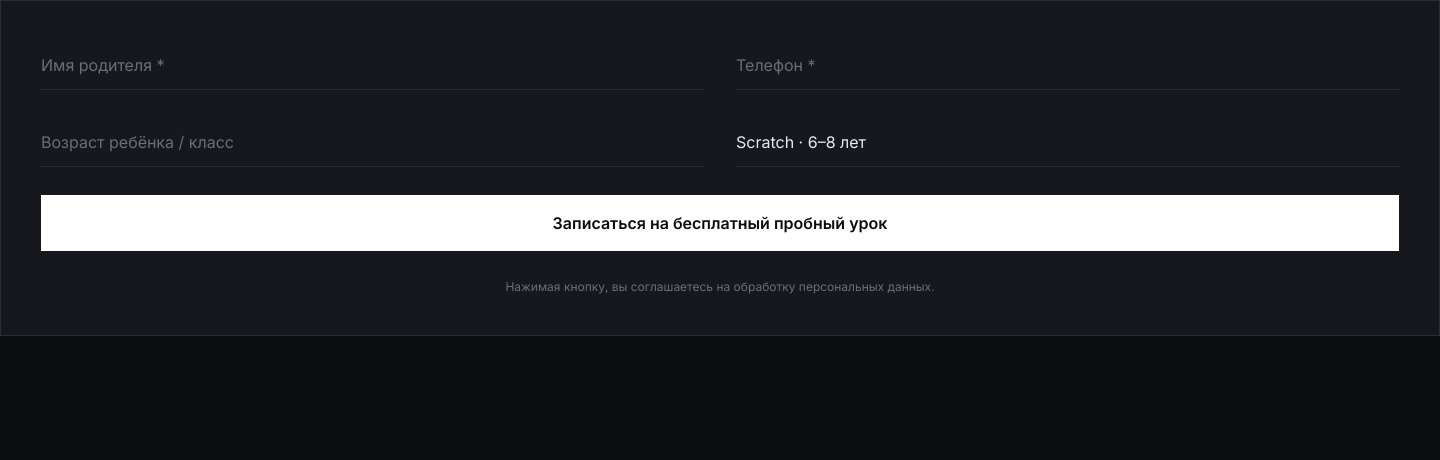
ApplicationForm › отправляет заявку и показывает сообщение об успехе
Step 1. Type "Иван Петров" into the field with placeholder "Имя родителя *" → (372, 66), box [41,41,704,90]
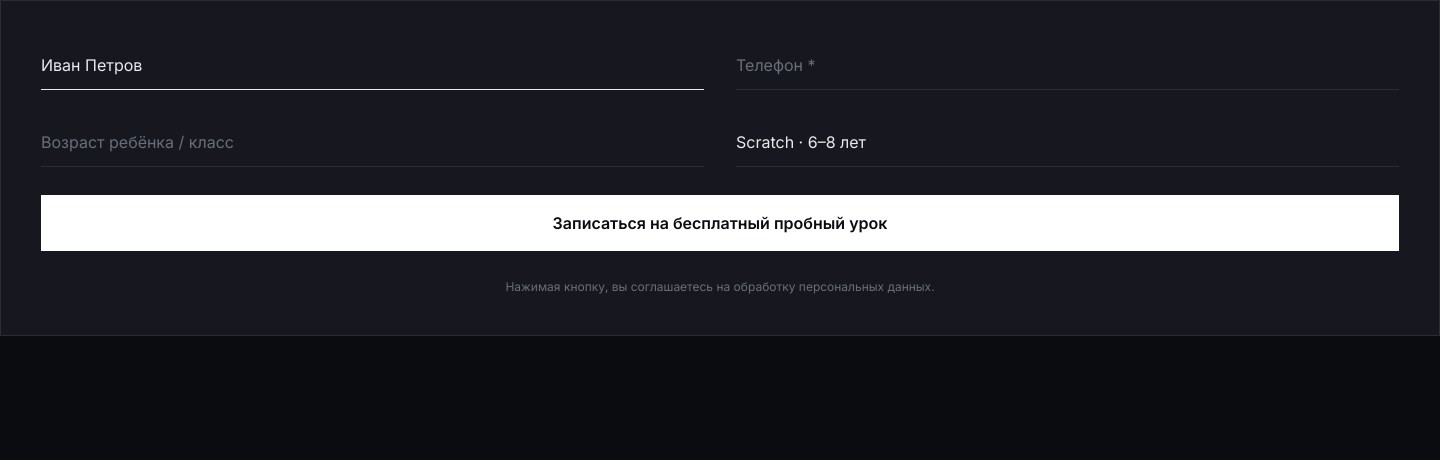
Step 2. Type "+375291234567" into the field with placeholder "Телефон *" → (1068, 66), box [736,41,1399,90]
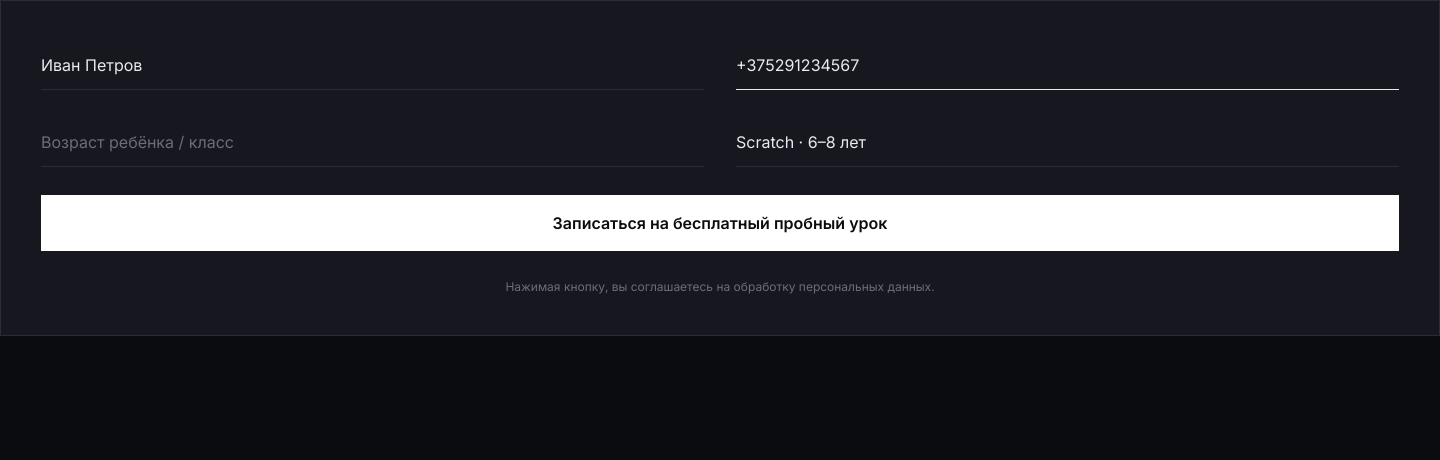
Step 3. Type "9 лет" into the field with placeholder "Возраст ребёнка / класс" → (372, 142), box [41,118,704,167]
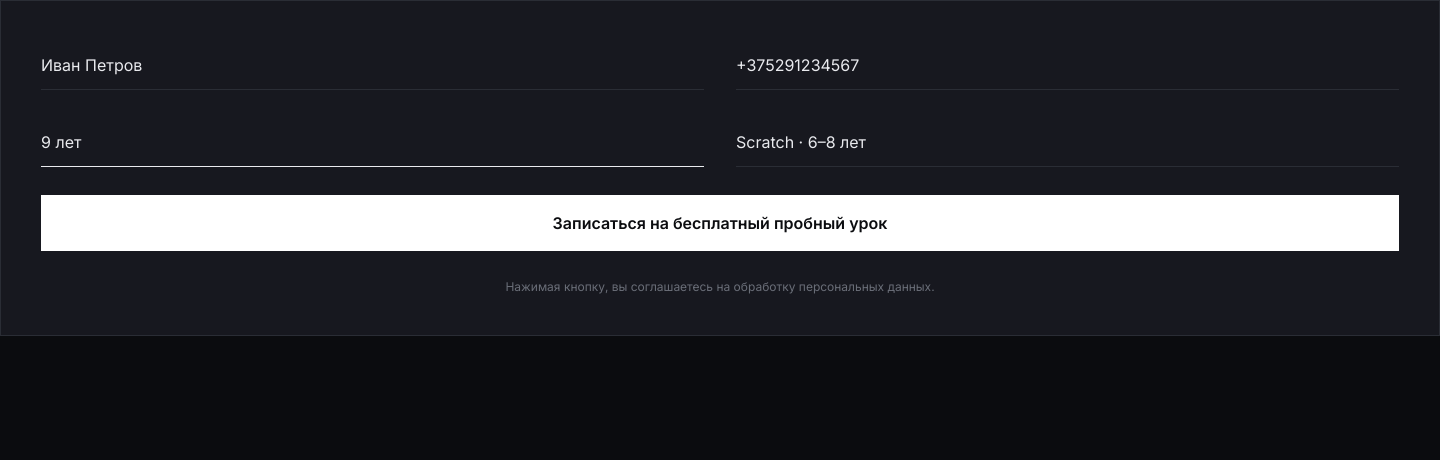
Step 4. Click the button "Записаться на бесплатный пробный урок" → (720, 223), box [41,195,1399,251]
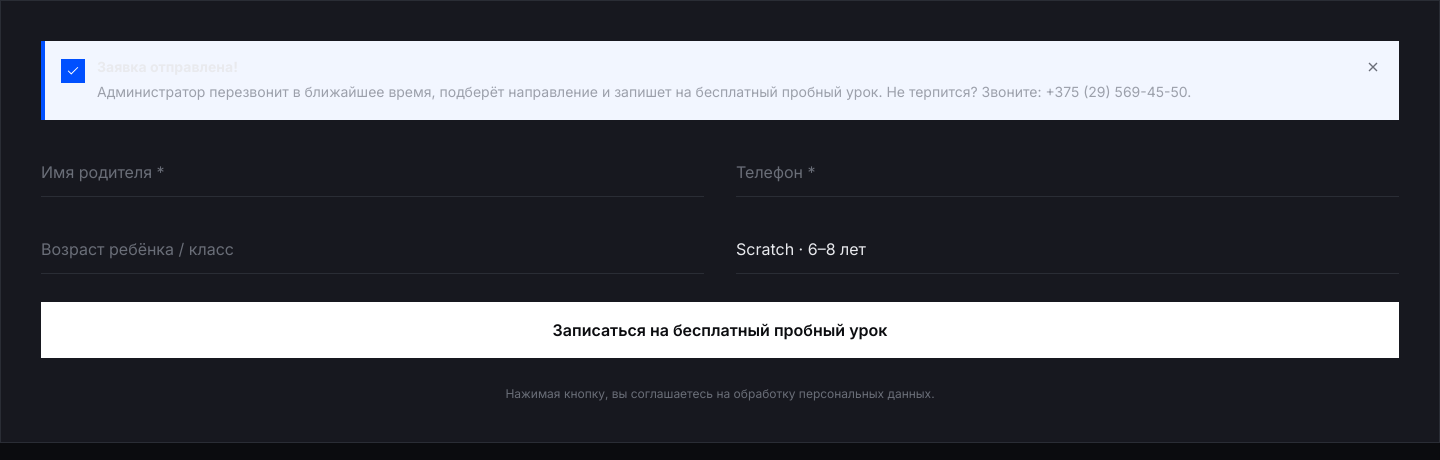
Expected: the button "Записаться на бесплатный пробный урок" is shown, [41,302,1399,358]
Уведомление можно закрыть крестиком
Step 5. Click the button named "Закрыть уведомление" → (1373, 67), box [1359,53,1387,81]
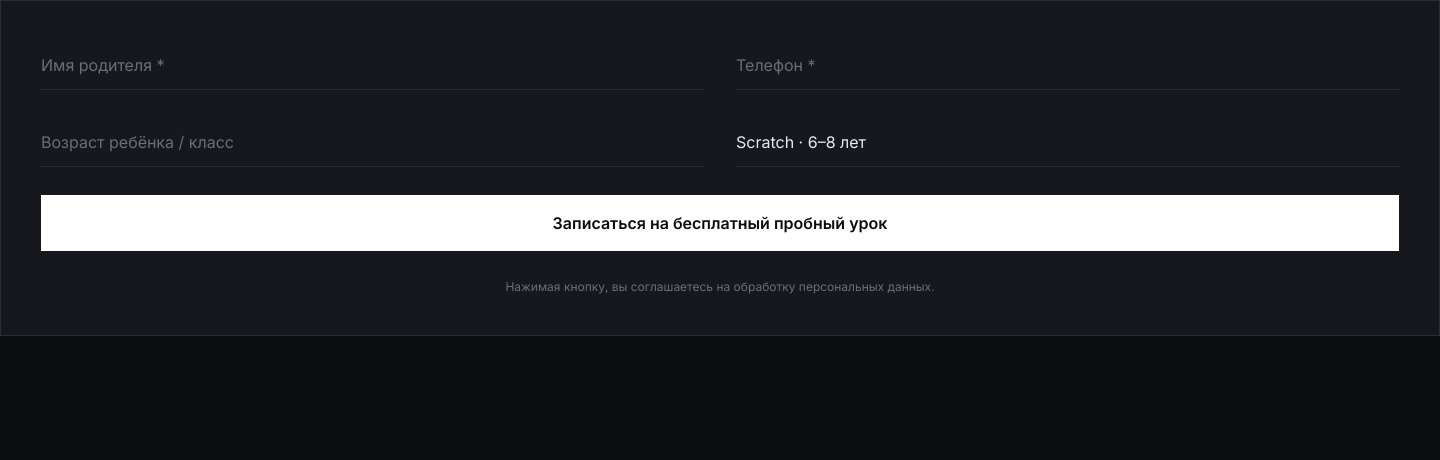
Expected: the text "Заявка отправлена" is gone
